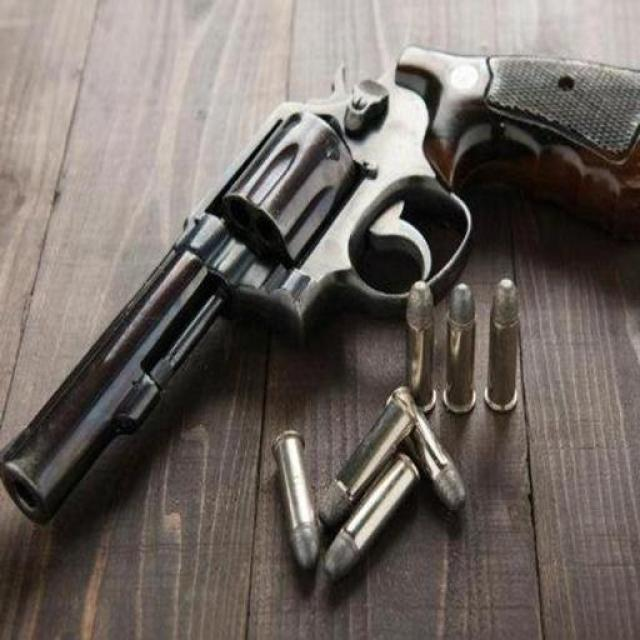pistol: (1, 44, 640, 523)
